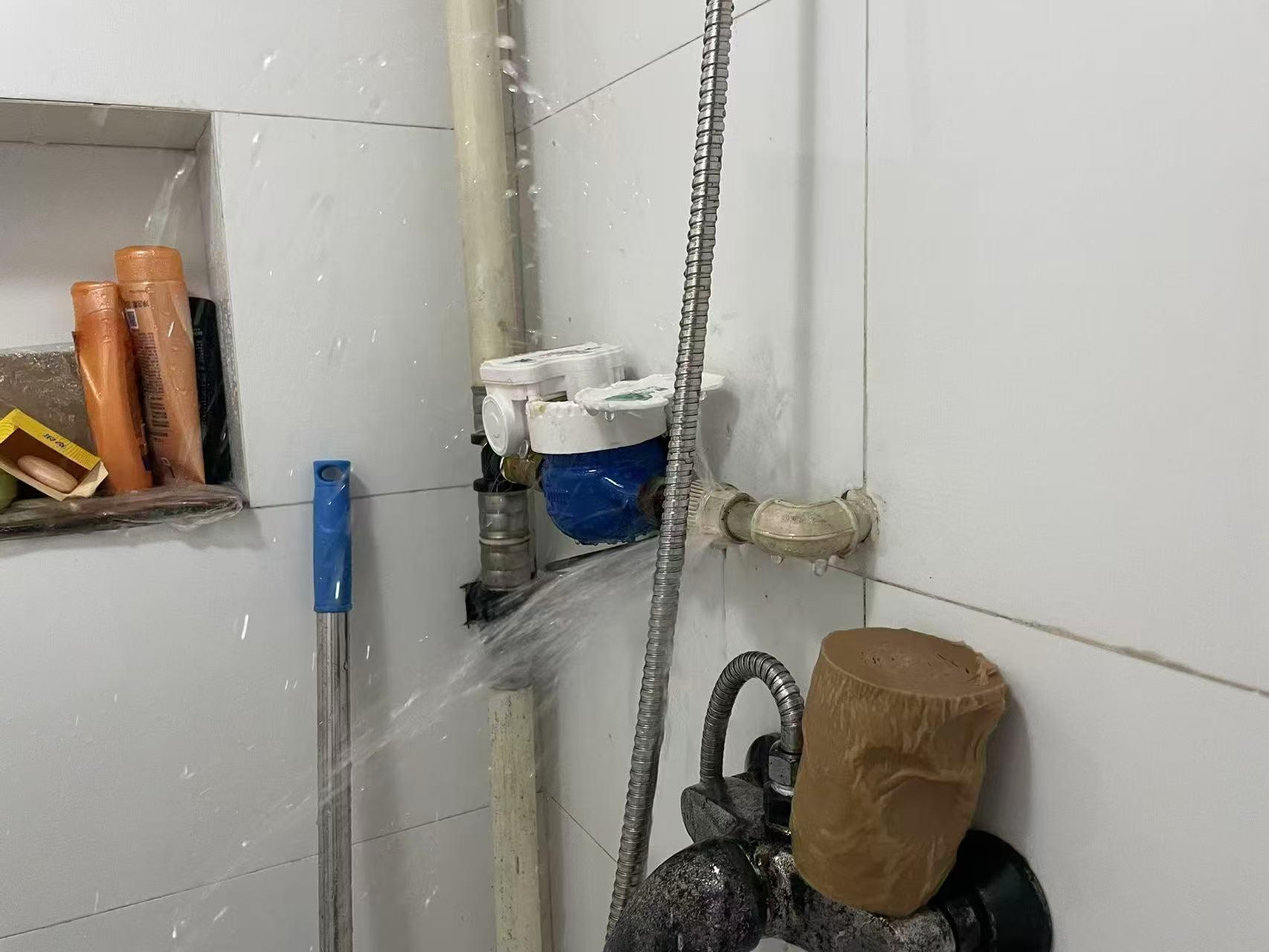pipe burst: (189, 506, 739, 888)
water drop: (810, 557, 828, 577), (770, 550, 784, 564)
